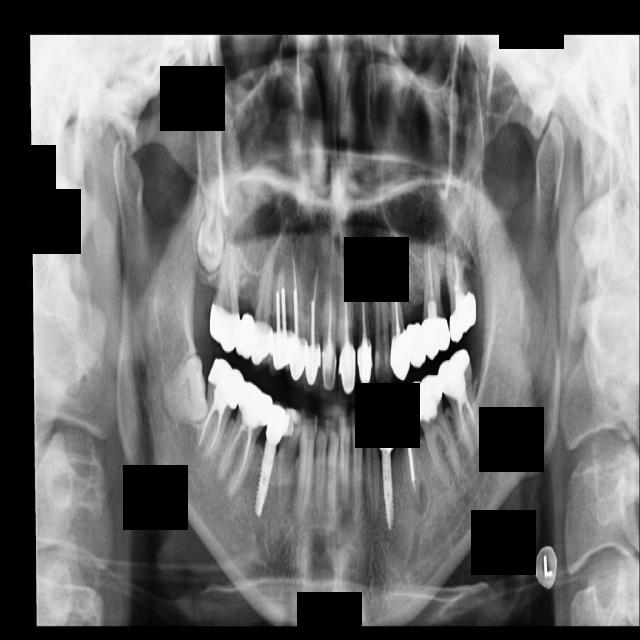3M ESPE Implant: (194, 166, 231, 275)
52: (200, 352, 257, 411), (433, 347, 480, 406), (233, 380, 276, 434), (407, 373, 446, 428), (210, 300, 241, 353), (449, 286, 477, 343), (267, 329, 297, 377), (285, 336, 311, 389), (250, 321, 276, 372), (336, 341, 357, 404), (421, 316, 451, 360), (402, 322, 429, 369), (392, 390, 417, 440), (376, 401, 397, 453), (235, 312, 258, 359), (265, 400, 288, 445), (319, 345, 337, 402), (390, 329, 410, 380), (303, 343, 322, 396), (355, 343, 375, 393), (279, 407, 301, 445), (374, 342, 393, 386)
73: (210, 416, 265, 496), (191, 381, 239, 463), (447, 385, 487, 458), (418, 231, 447, 322), (440, 226, 472, 301), (283, 249, 307, 348), (399, 428, 423, 509), (273, 258, 297, 337), (306, 264, 325, 352), (336, 274, 354, 352), (320, 271, 336, 357), (355, 271, 371, 348), (391, 266, 406, 342), (594, 551, 602, 570)
BioHorizons Implant: (444, 225, 478, 344)
Blue Sky Bio Implant: (434, 347, 486, 460)
Caries: (209, 225, 243, 354)
Implant: (190, 355, 249, 464)
Keystone Dental Implant: (159, 354, 209, 426)
